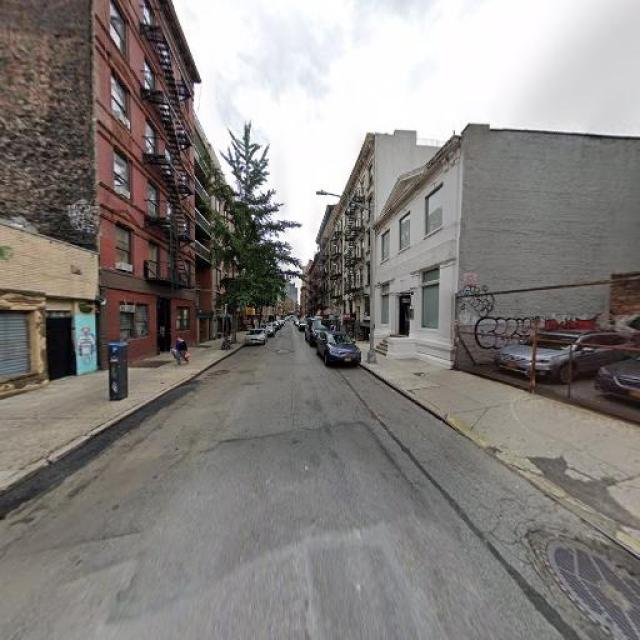Building: (99, 1, 193, 375), (378, 137, 459, 372), (1, 222, 93, 404)
